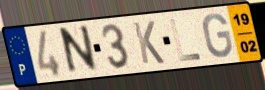3: (101, 22, 133, 72)
4: (37, 28, 63, 79)
G: (201, 12, 235, 60)
K: (131, 20, 167, 66)
L: (168, 17, 204, 63)
N: (59, 23, 100, 78)
